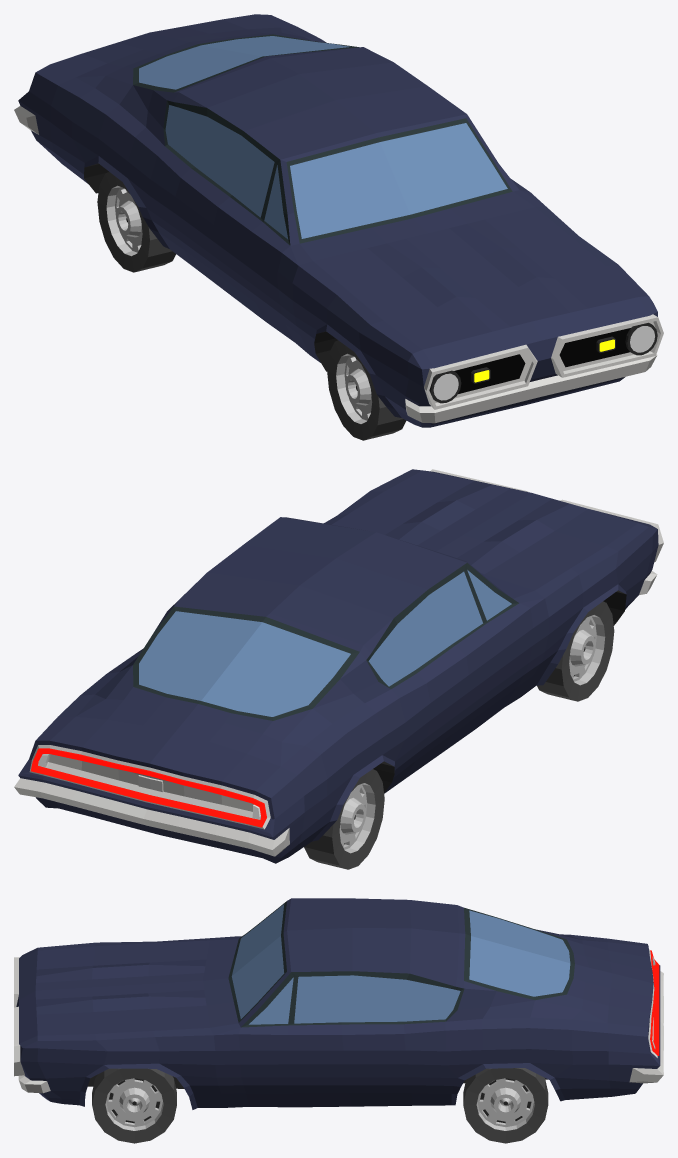
The model's file is plymouth.fbx.
3 views of the same model, one above another, from view 1: azimuth 30°, elevation 25°; view 2: azimuth 150°, elevation 25°; view 3: azimuth 270°, elevation 25° (orthographic). The views are drawn at different scales.
Visible parts, largest first — view 1: car_plymouth, wheel_fr_plymouth, wheel_br_plymouth; view 2: car_plymouth, wheel_br_plymouth, wheel_fr_plymouth; view 3: car_plymouth, wheel_fl_plymouth, wheel_bl_plymouth.
Part boxes in pixels (x1,y1,x2,y2): car_plymouth: [14, 14, 663, 427]; wheel_fr_plymouth: [327, 340, 406, 440]; wheel_br_plymouth: [97, 172, 175, 272]; car_plymouth: [14, 469, 663, 863]; wheel_br_plymouth: [304, 769, 384, 869]; wheel_fr_plymouth: [537, 601, 614, 701]; car_plymouth: [14, 898, 663, 1109]; wheel_fl_plymouth: [92, 1068, 176, 1143]; wheel_bl_plymouth: [463, 1068, 548, 1143].
Bounding box in the file's own units: 187 × 142 × 495.
